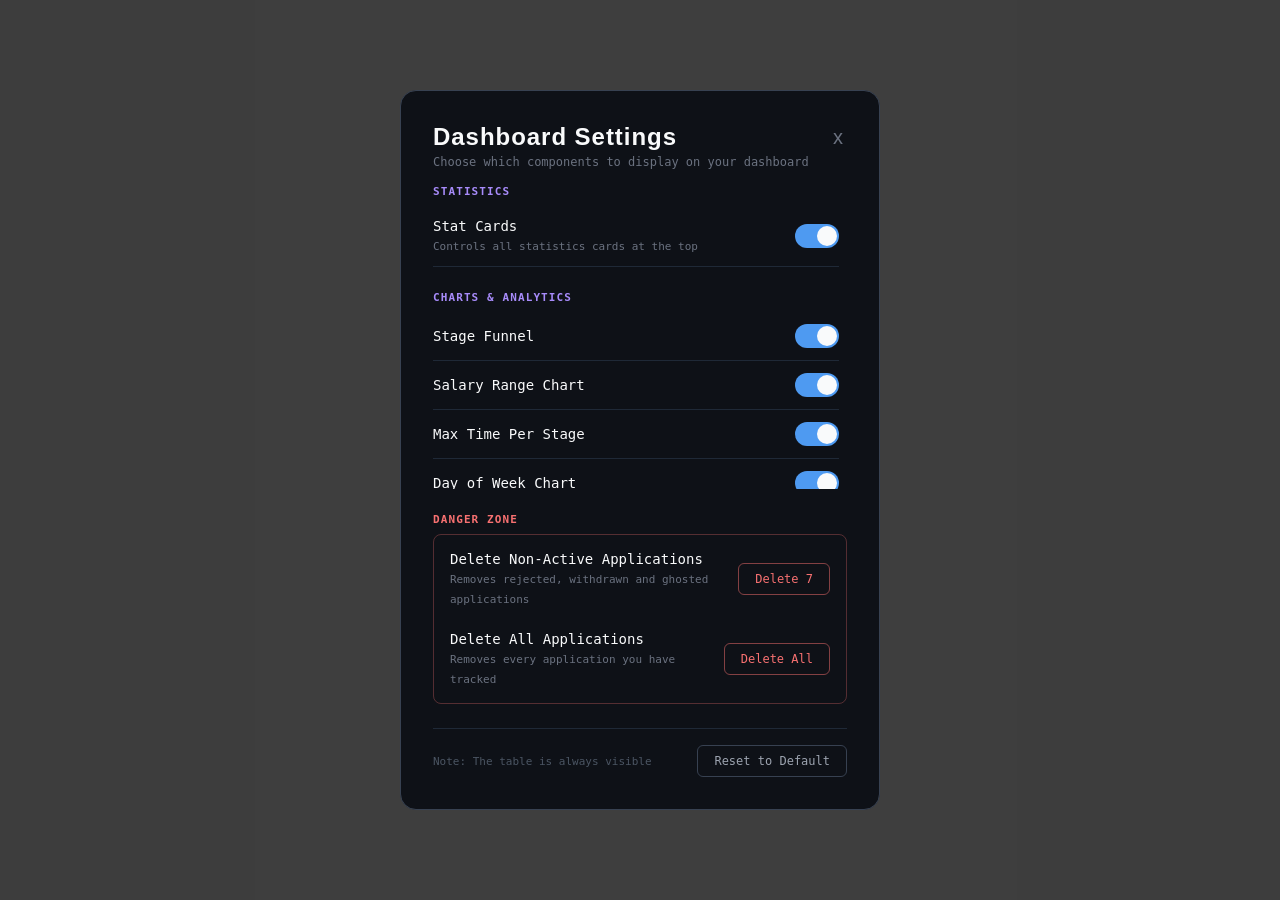
it: DashboardSettingsModal › danger zone › should close the confirmation after a successful delete
Click the button "Delete All" at (777, 659), box [724,643,830,675]
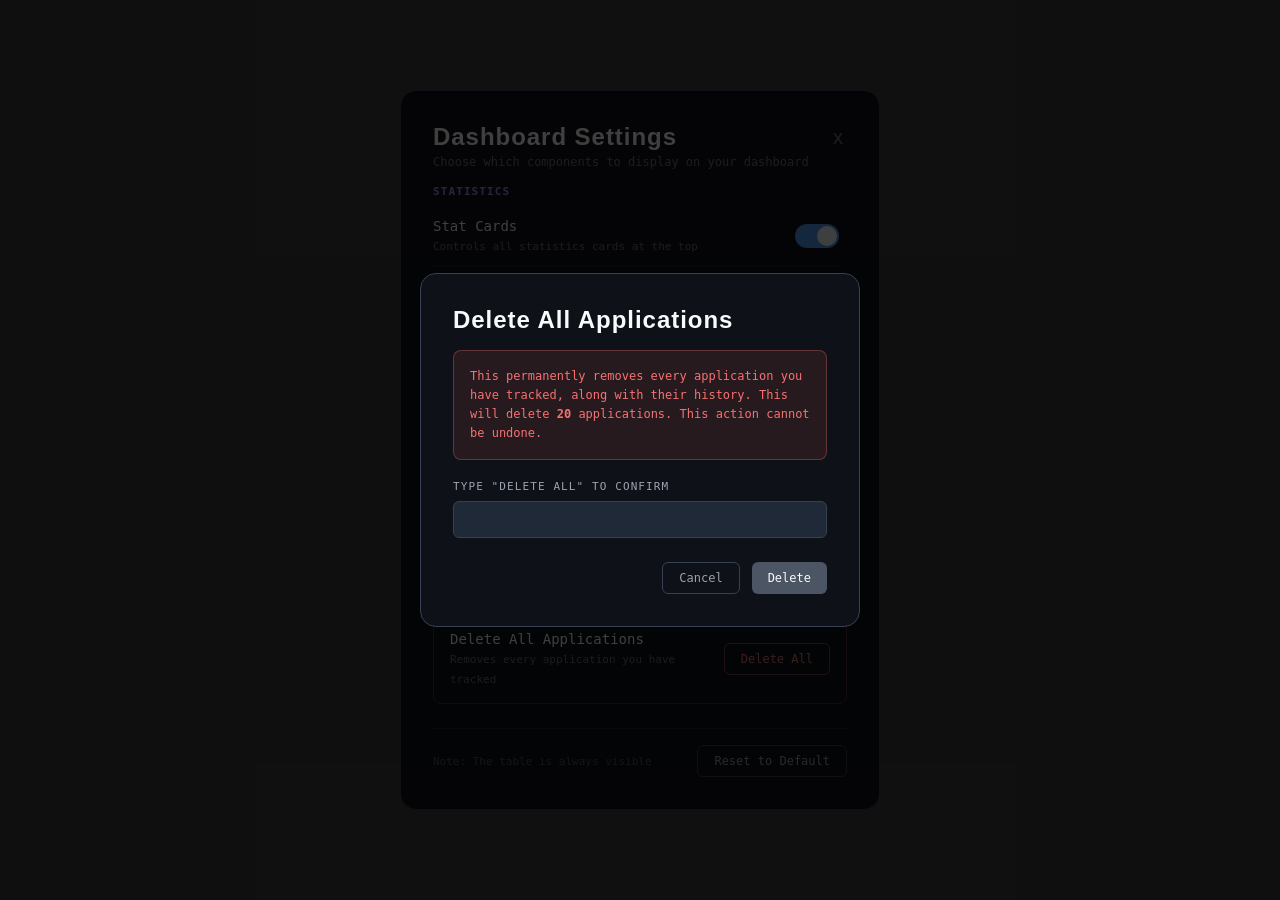
Type "DELETE ALL" into the field labelled "Type \"DELETE ALL\" to confirm" at (640, 520), box [453,501,827,538]
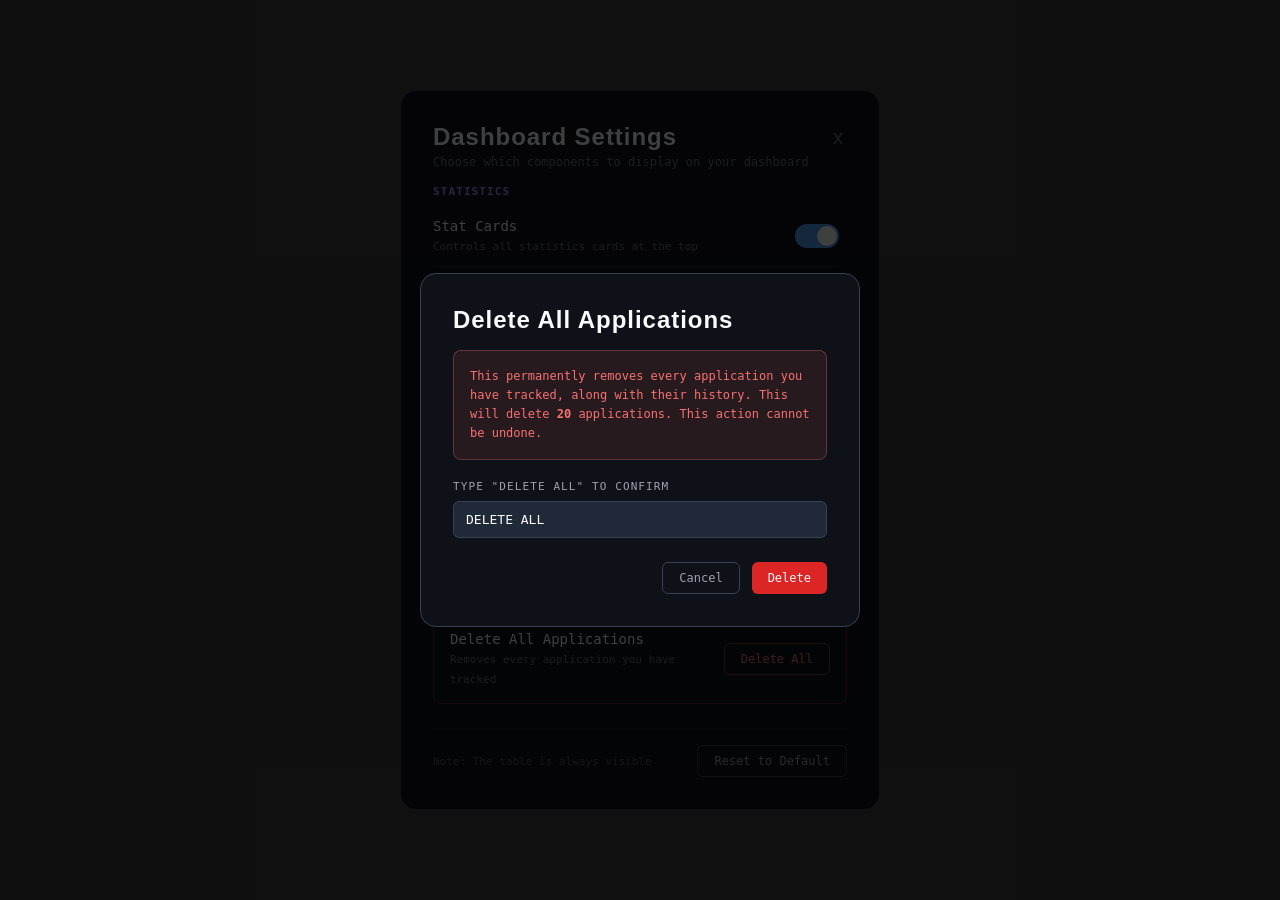
Click the button with test id "confirm-delete-button" at (789, 578), box [752,562,827,594]
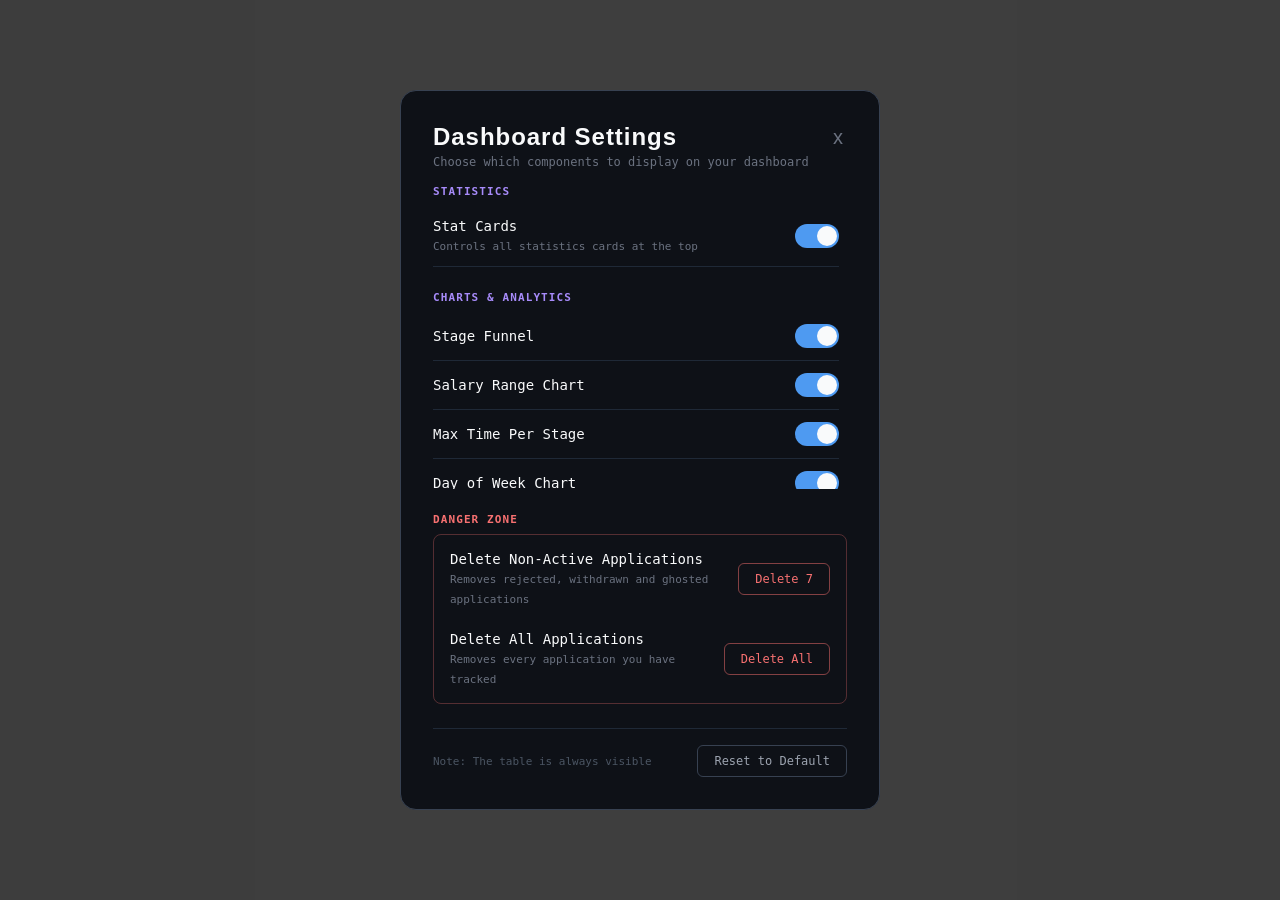
Expected: the element with test id "confirm-delete-backdrop" is gone
